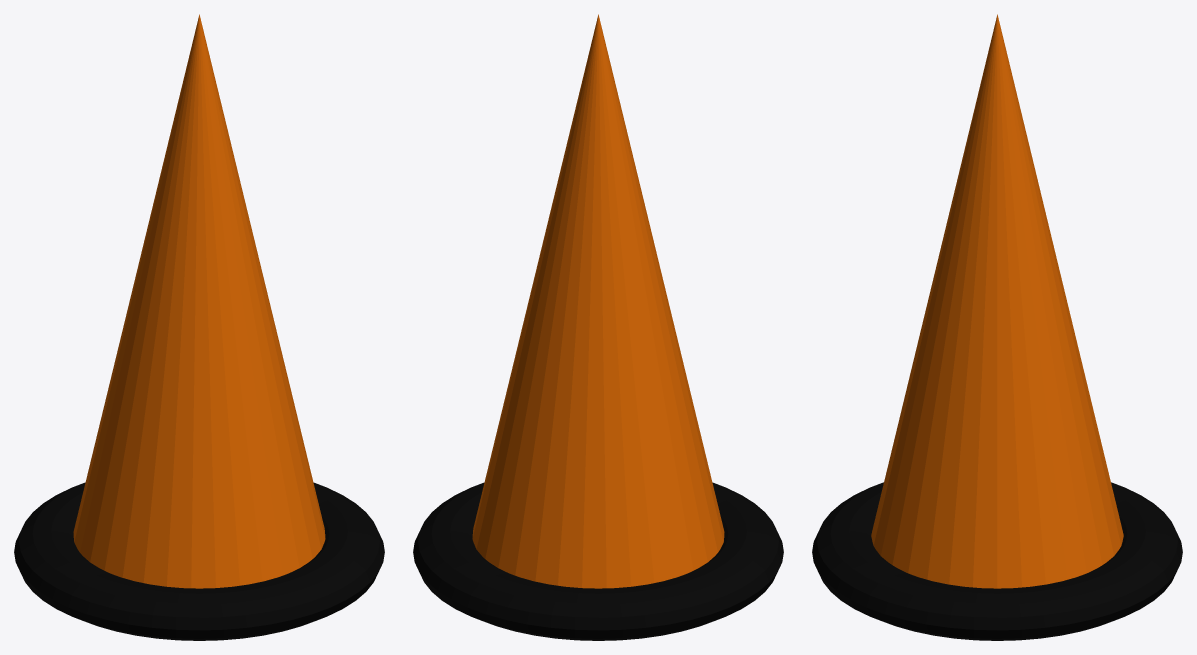
File: TrafficCone.fbx
The picture shows the model from 3 angles, left to right: view 1: azimuth 30°, elevation 25°; view 2: azimuth 150°, elevation 25°; view 3: azimuth 270°, elevation 25°; orthographic projection.
Visible parts, largest first — view 1: Cone, Torus; view 2: Cone, Torus; view 3: Cone, Torus.
Boxes of the visible parts, x1=… form: Cone: x1=73, y1=14, x2=325, y2=588; Torus: x1=14, y1=482, x2=384, y2=640; Cone: x1=472, y1=14, x2=724, y2=588; Torus: x1=413, y1=482, x2=783, y2=640; Cone: x1=871, y1=14, x2=1123, y2=588; Torus: x1=812, y1=482, x2=1182, y2=640.
Bounding box in the file's own units: 345 × 575 × 345.
